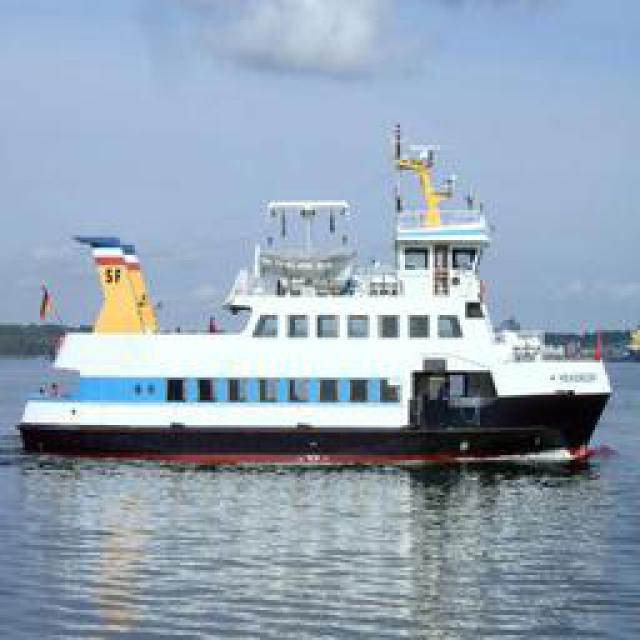Ship: (16, 147, 621, 457)
